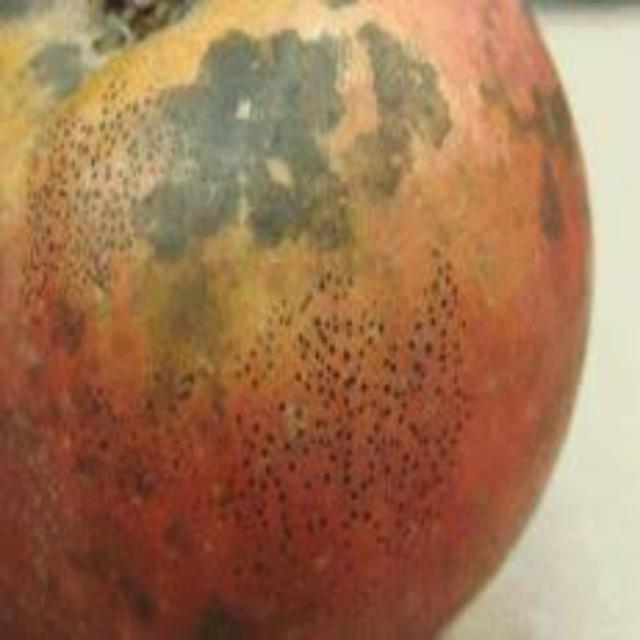Rotten Apple: (10, 16, 616, 622)
